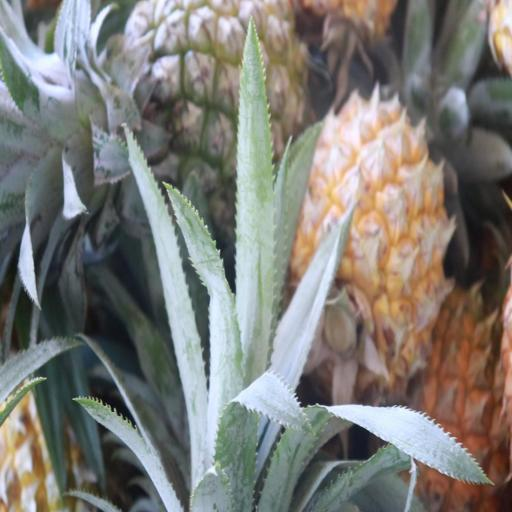Pineapple - v8 v1: (301, 96, 448, 376)
